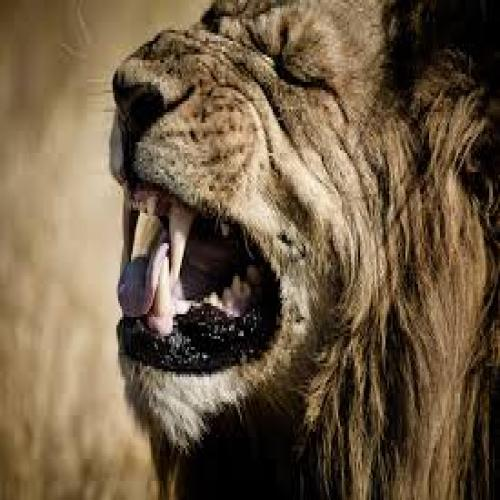lion-endangered: (114, 4, 494, 488)
